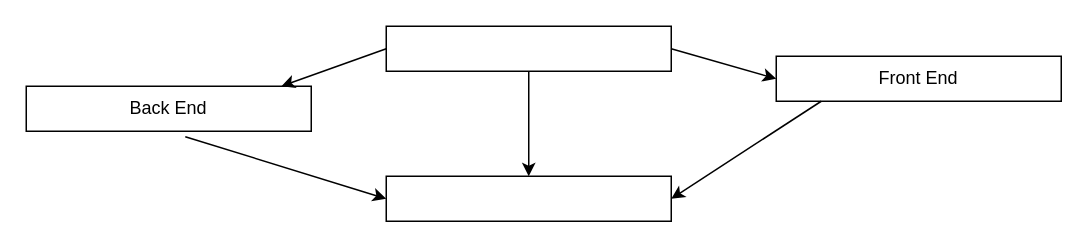
Image size: 1088x248. Some labels were removed from this diagram. The centre of each missing label's shape, as x and y in pixels:
"APP SETTINGS" goes at [528,48].
"Main" goes at [528,198].
